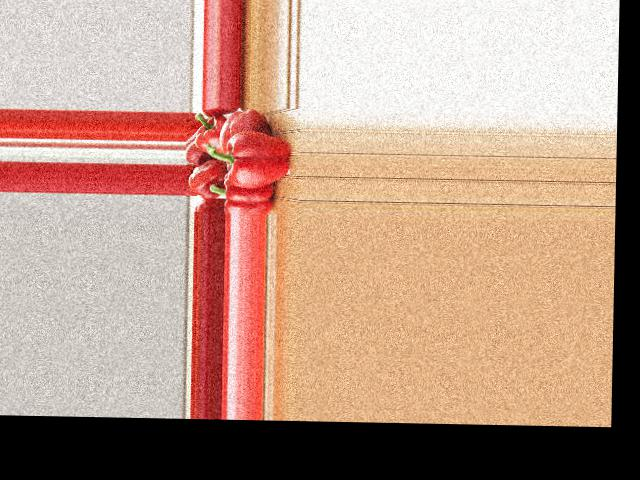bell_pepper: (193, 110, 228, 153)
